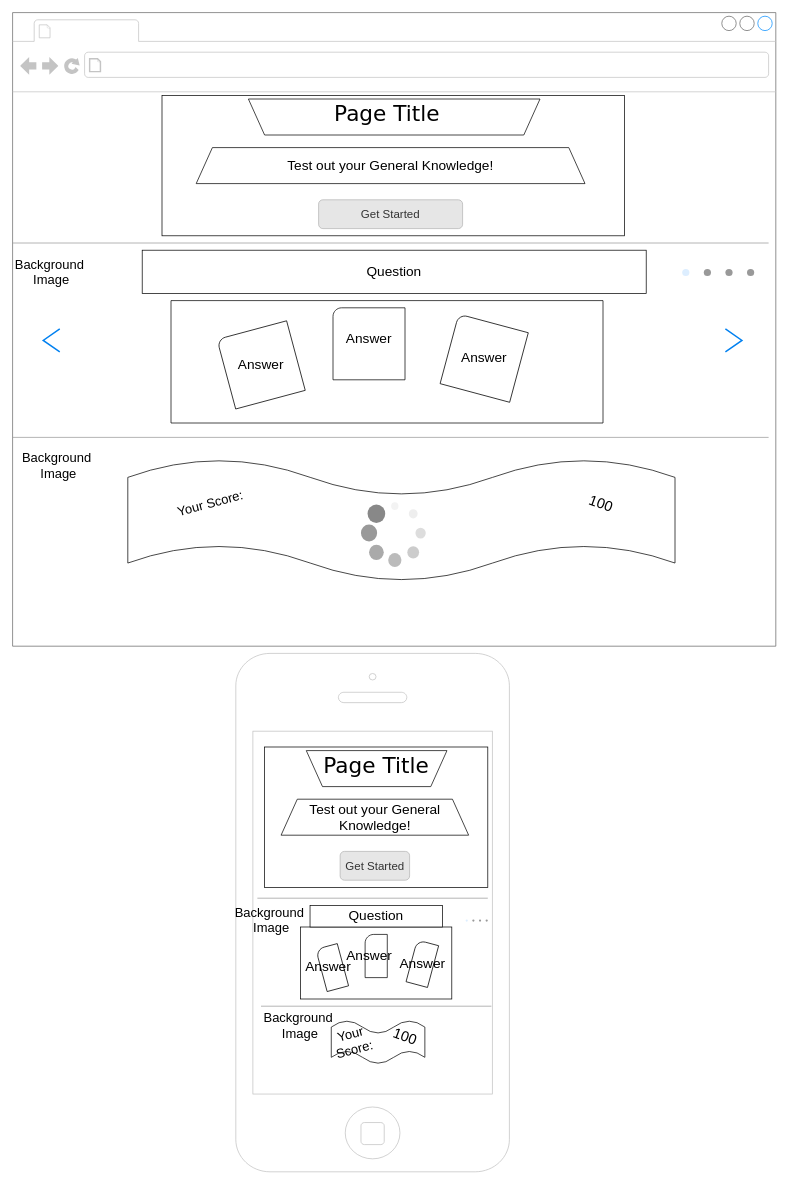
The diagram is 788 pixels wide and 1184 high, and some of its shapes have lost their labels. The shapes that lost their labels are listed below. From the top down, each one's centre as x and y in pixels, then its label:
the point at 95,30: J-Quiz!
the point at 195,65: https://www.j-quiz.com
